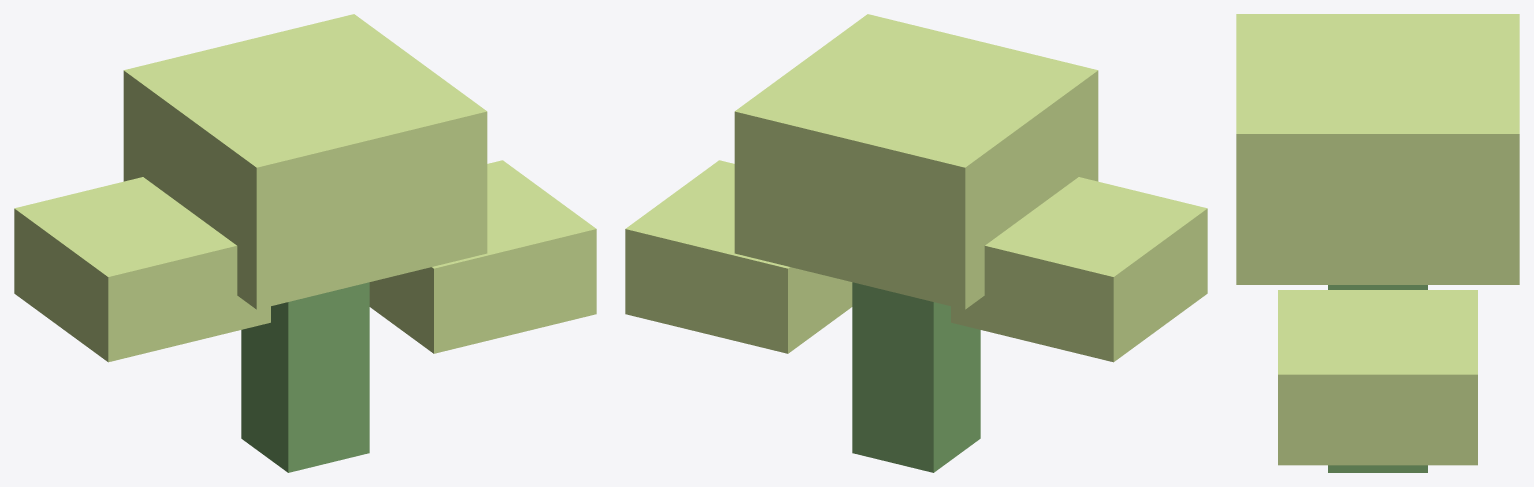
File: Prop_DS_Herb_DefragMoss_S1.glb
3 views of the same model, side by side, from view 1: azimuth 30°, elevation 25°; view 2: azimuth 150°, elevation 25°; view 3: azimuth 270°, elevation 25° (orthographic). The views are drawn at different scales.
Parts seen in each view (by area): view 1: Prop_DS_Herb_DefragMoss_S1; view 2: Prop_DS_Herb_DefragMoss_S1; view 3: Prop_DS_Herb_DefragMoss_S1.
Part boxes in pixels (left/top/right/bottom): Prop_DS_Herb_DefragMoss_S1: left=14, top=14, right=596, bottom=472; Prop_DS_Herb_DefragMoss_S1: left=625, top=14, right=1207, bottom=472; Prop_DS_Herb_DefragMoss_S1: left=1236, top=14, right=1519, bottom=472.
Bounding box in the file's own units: 0.36 × 0.25 × 0.17.
